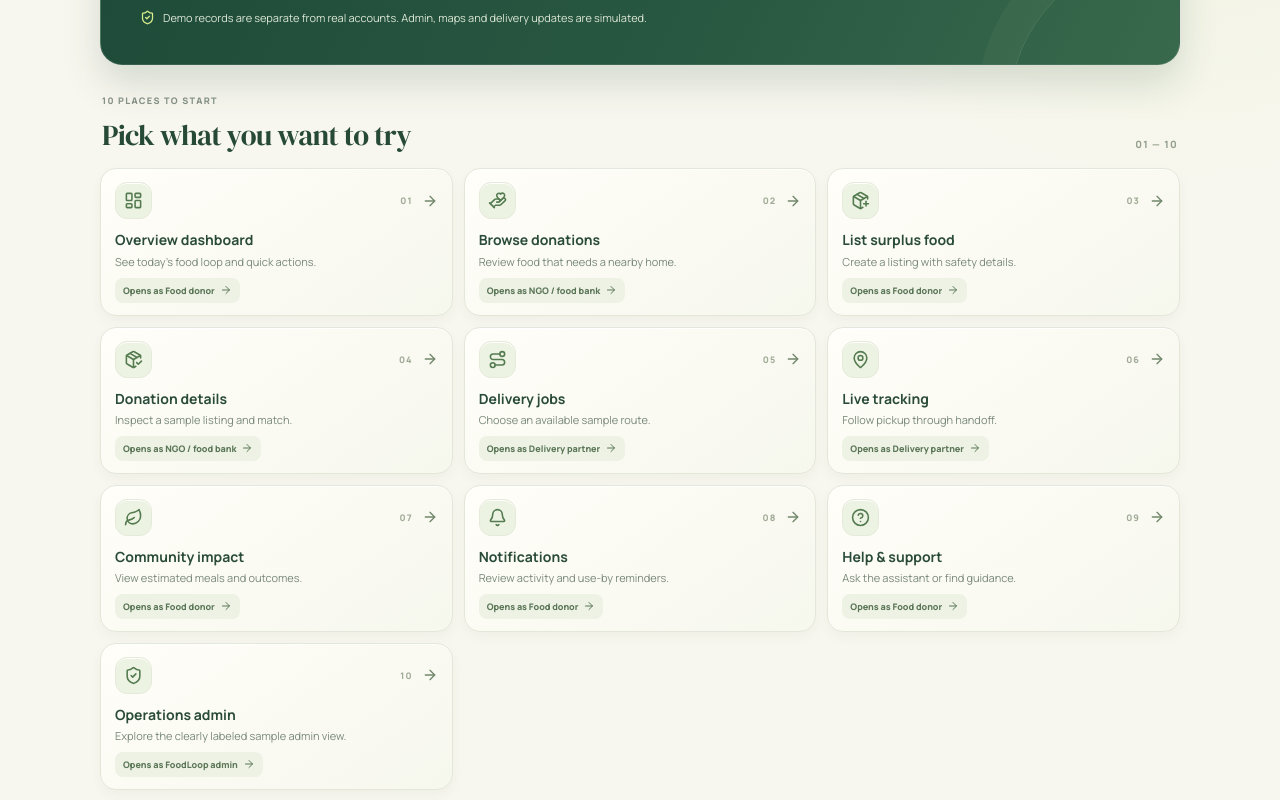
Test: FoodLoop screen selection › opens Donation details with the ngo demo identity
(page scrolled)
Click the button with aria-label "Open Donation details as NGO / food bank" at (134,359), box top-left (100, 326), bottom-right (453, 474)
(page scrolled)
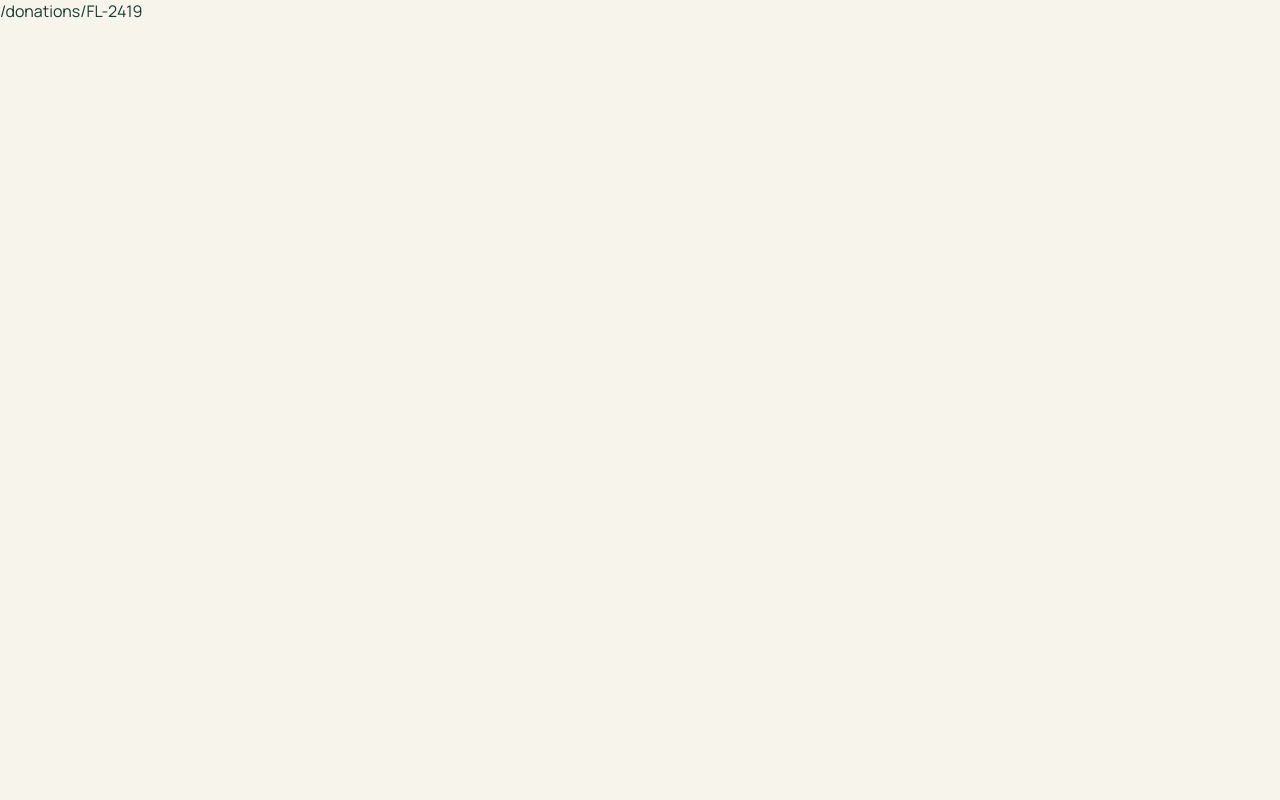
Result: the text with test id "current-route" reads "/donations/FL-2419" at top-left (0, 0), bottom-right (142, 22)
